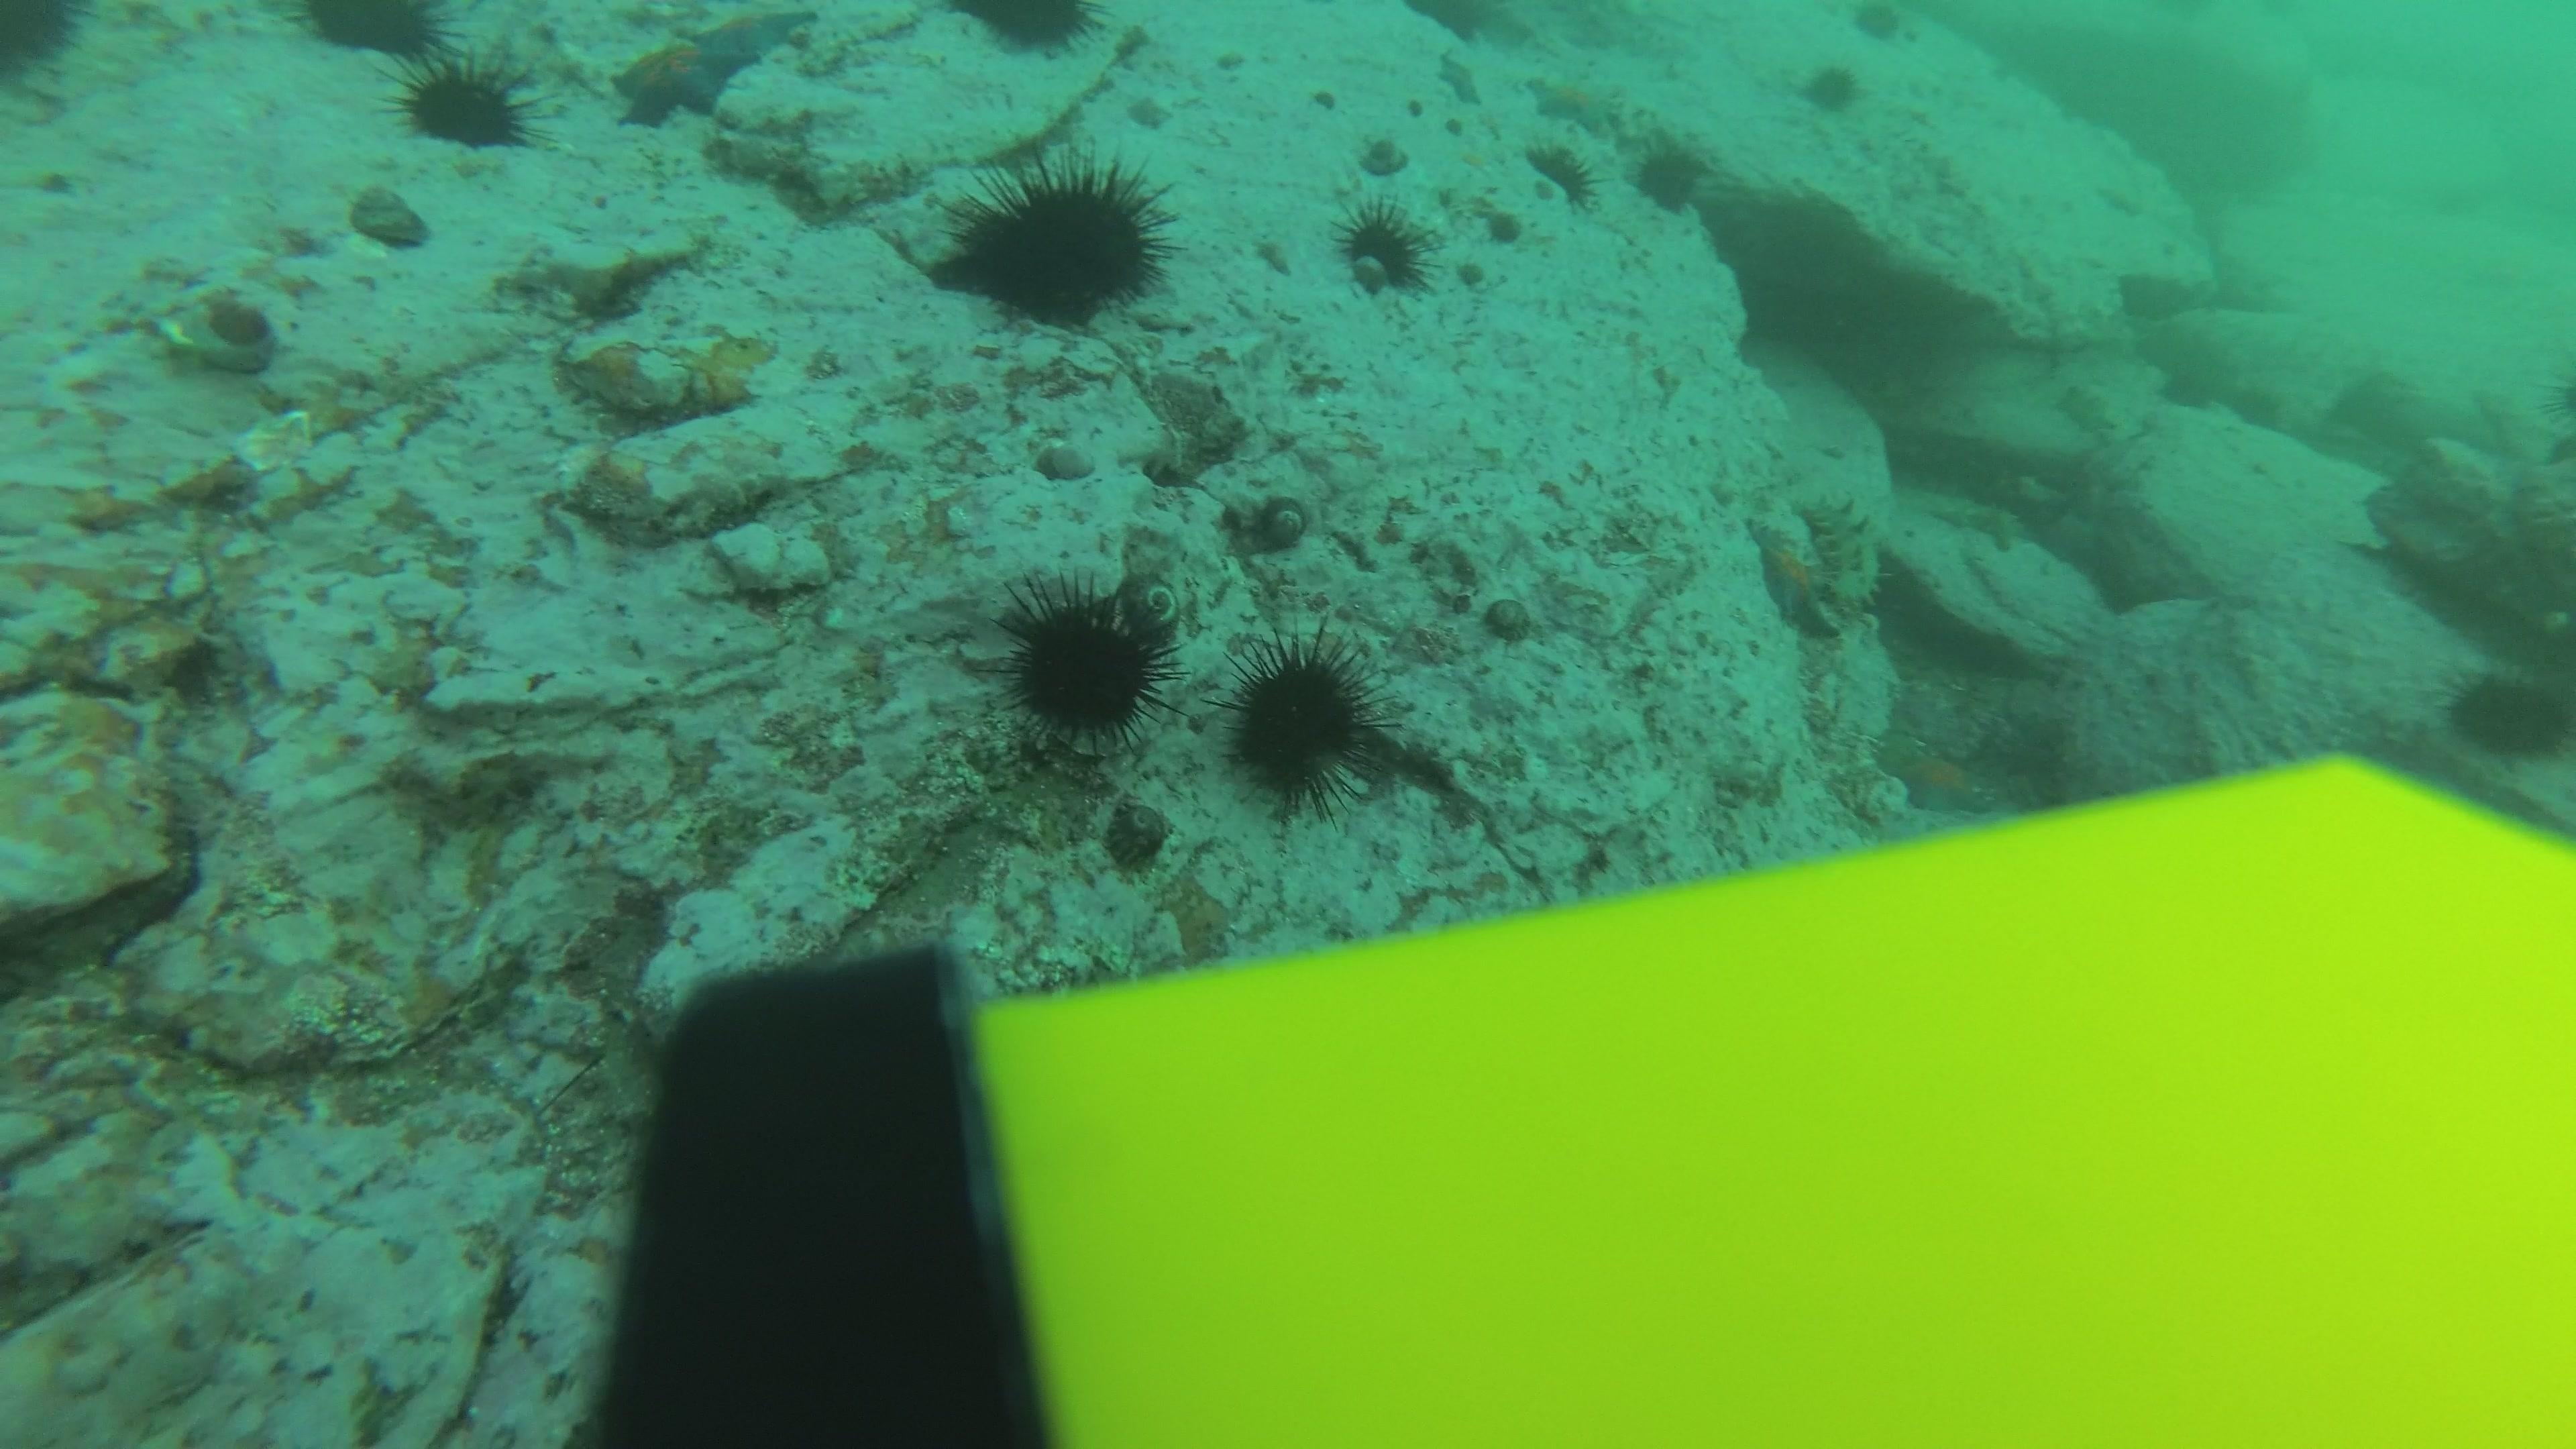echinus: (936, 150, 1175, 331), (991, 570, 1178, 747), (1215, 628, 1389, 816), (395, 51, 538, 156), (2443, 662, 2571, 766), (292, 0, 451, 65), (1334, 202, 1435, 299), (950, 0, 1104, 62), (0, 0, 88, 88), (1629, 133, 1711, 216), (1523, 136, 1599, 209), (1796, 53, 1863, 115), (1844, 0, 1911, 62)
holothurian: (1801, 478, 1898, 614), (1941, 495, 2026, 552)
starfish: (603, 7, 819, 133), (1744, 508, 1844, 642), (1879, 731, 1999, 819), (1520, 69, 1628, 136), (1433, 53, 1484, 108)
